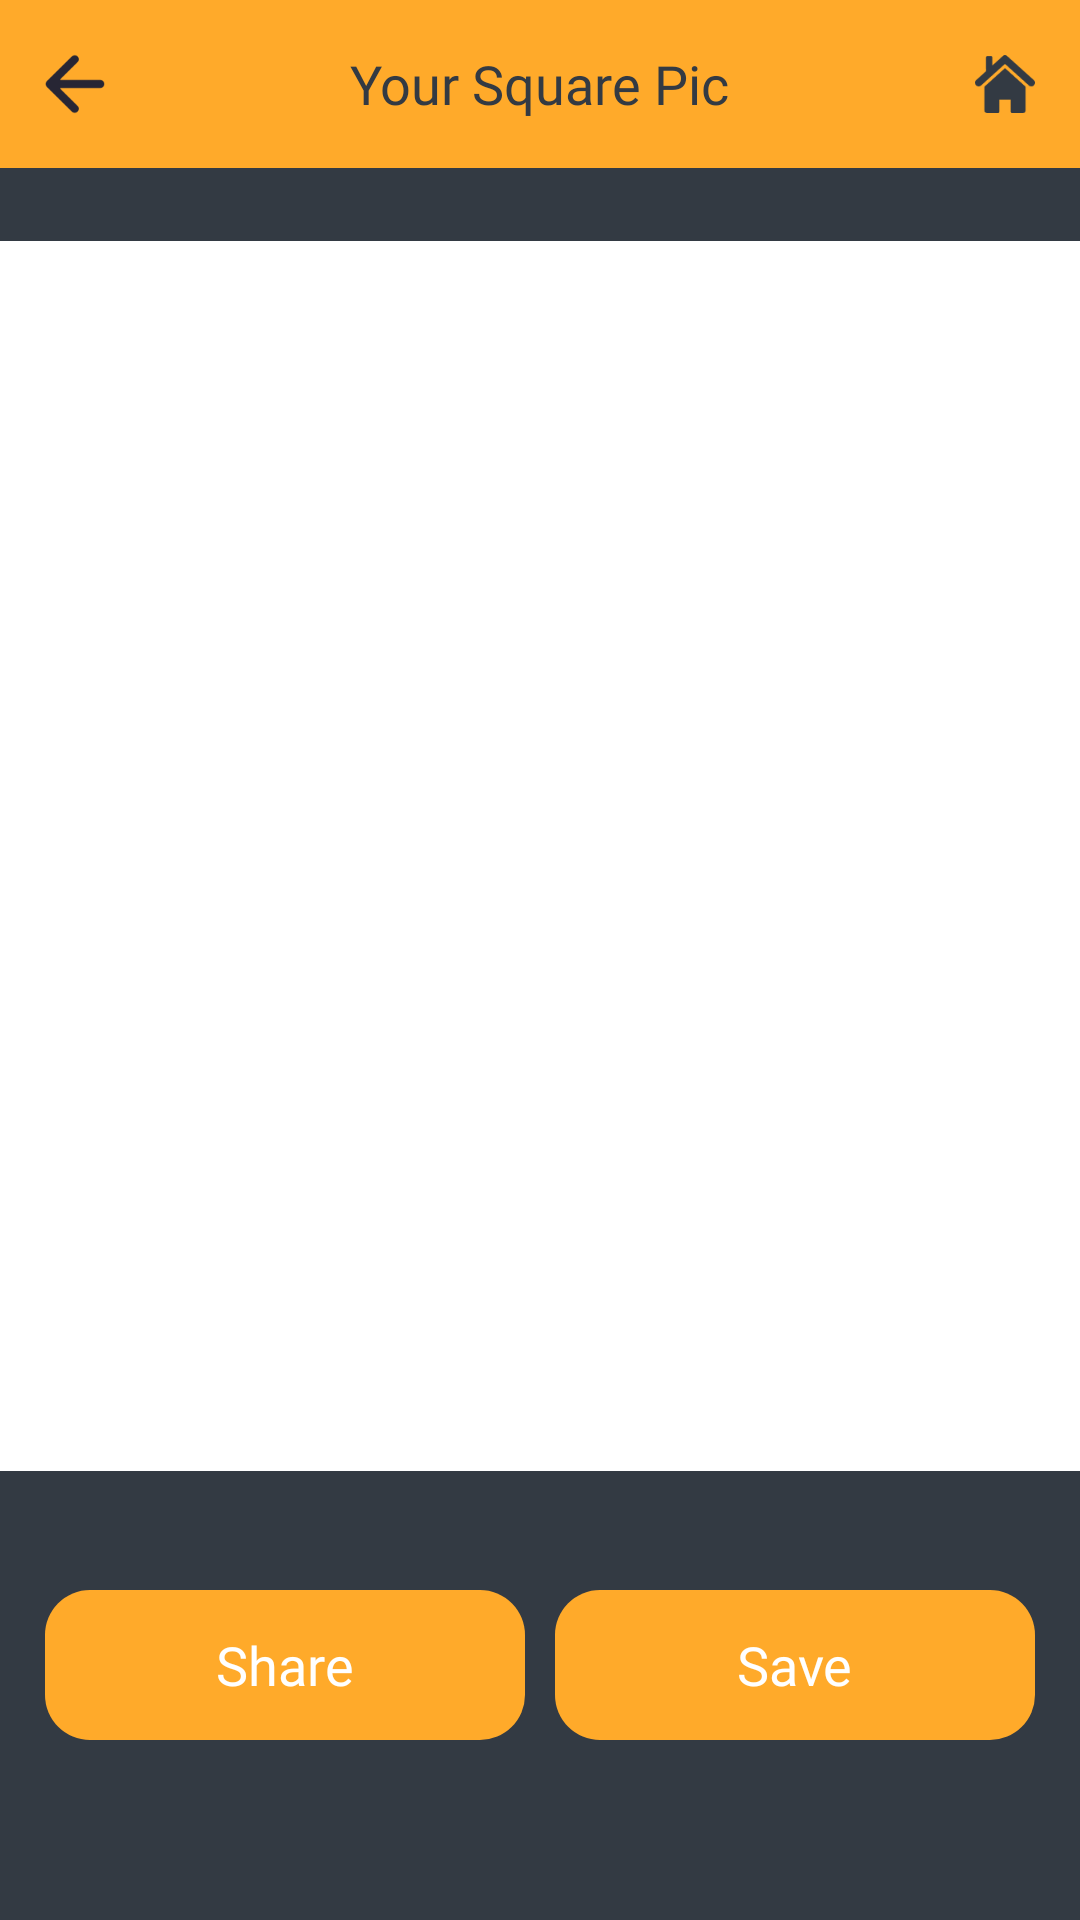

Screen size 1080*1920. Icon name, then its box in pixels as (x1, y1, x2, y2):
back: (45, 55, 105, 113)
home: (975, 55, 1035, 113)
